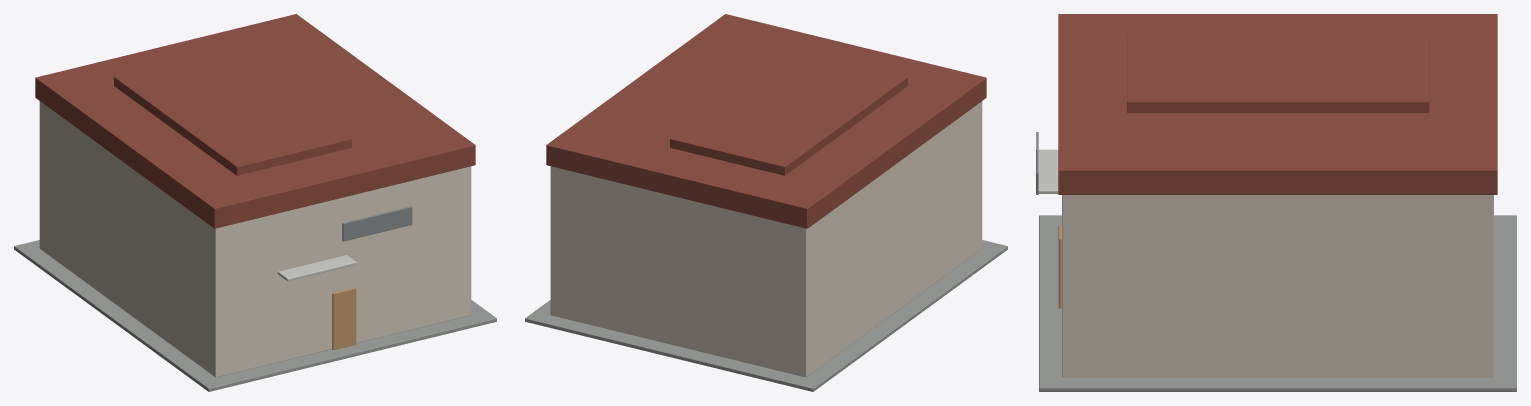
The model's file is Building_Residential_014.glb.
3 views of the same model, side by side, from view 1: azimuth 30°, elevation 25°; view 2: azimuth 150°, elevation 25°; view 3: azimuth 270°, elevation 25° (orthographic). The views are drawn at different scales.
Parts seen in each view (by area): view 1: Building_Residential_014; view 2: Building_Residential_014; view 3: Building_Residential_014.
Part boxes in pixels (<box>): Building_Residential_014: <box>14,14,496,391</box>; Building_Residential_014: <box>525,14,1007,391</box>; Building_Residential_014: <box>1036,14,1516,391</box>.
Bounding box in the file's own units: 13.32 × 8.1 × 15.68.
